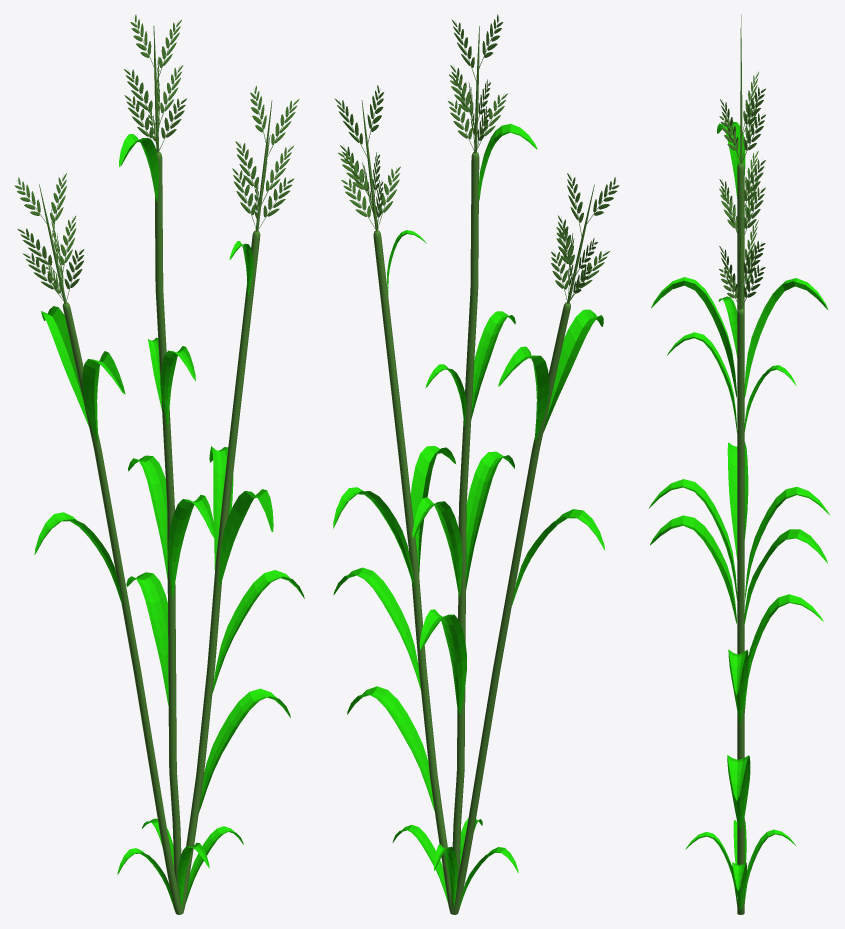
Rendered from Pad3.fbx.
3 renders of one model, left to right at view 1: azimuth 30°, elevation 25°; view 2: azimuth 150°, elevation 25°; view 3: azimuth 270°, elevation 25°, orthographic. The views are drawn at different scales.
Visible parts, largest first — view 1: Vert.004; view 2: Vert.004; view 3: Vert.004.
Part boxes in pixels (x1,y1,x2,y2): Vert.004: (14,14,304,914); Vert.004: (333,14,619,914); Vert.004: (649,14,829,914).
Size of the model in its own units: 1180 by 3558 by 668.
